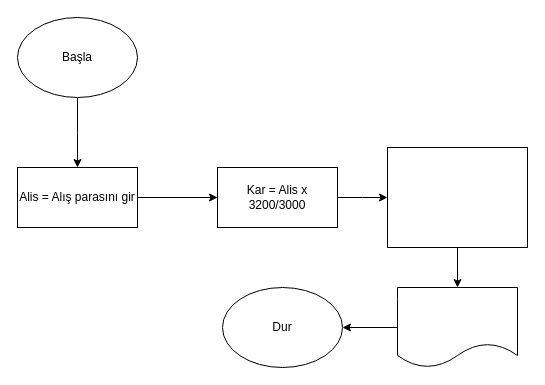
This 545x385 diagram has some shape labels left out. The centre of each missing label's shape, as x and y in pixels:
Net kar = Kar x 5000/20000: point 457,197
Net kar yazdır: point 457,327
